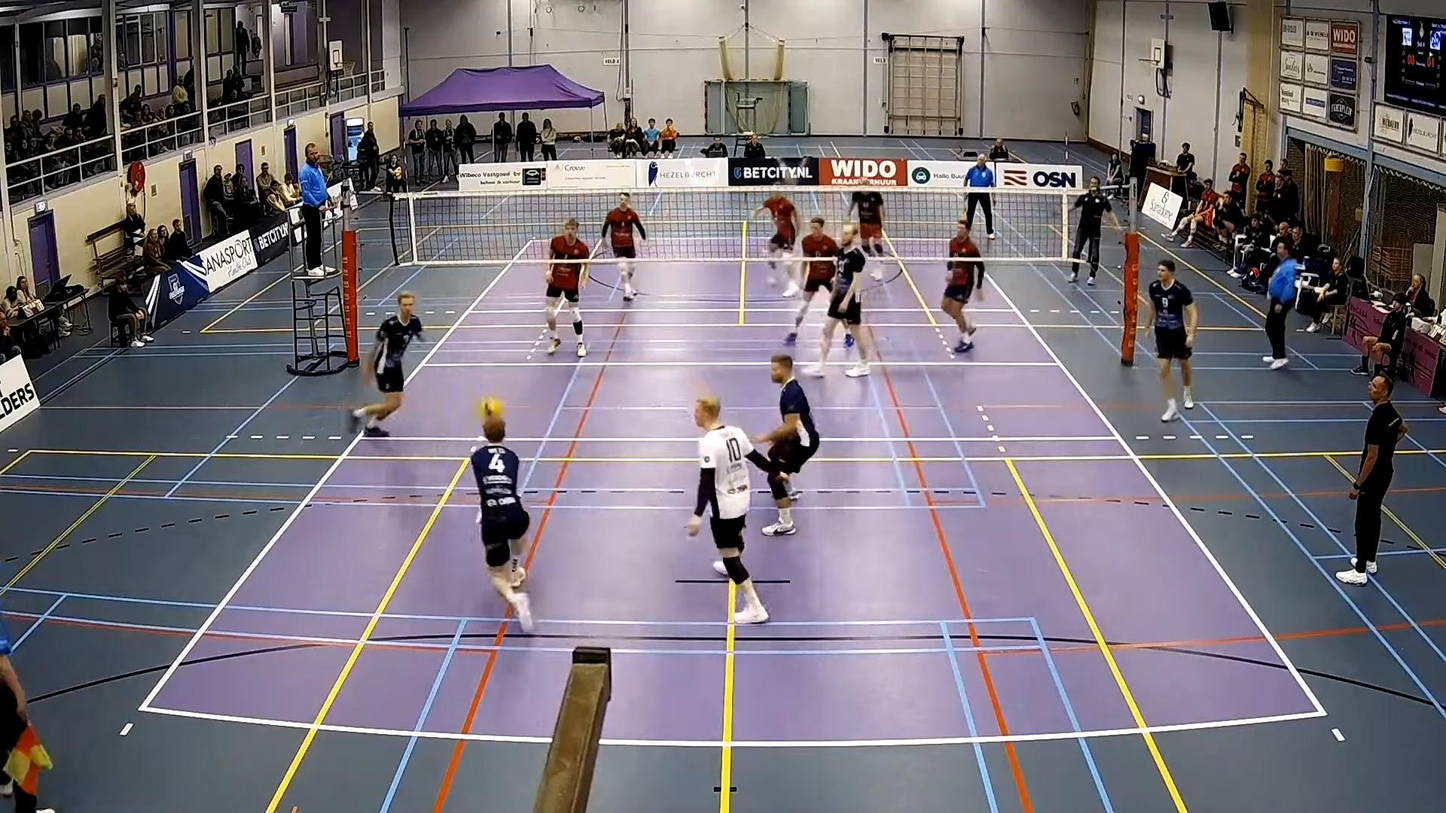ricezione: (457, 414, 539, 628)
